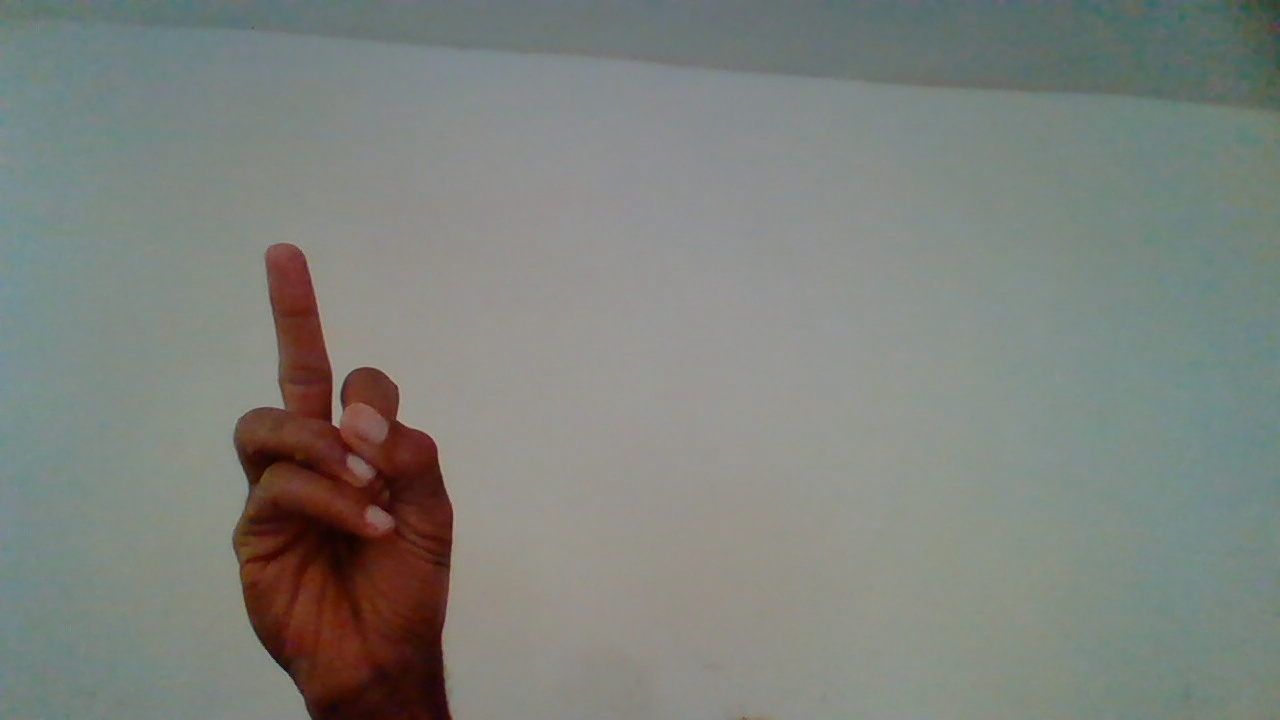he: (222, 244, 472, 717)
